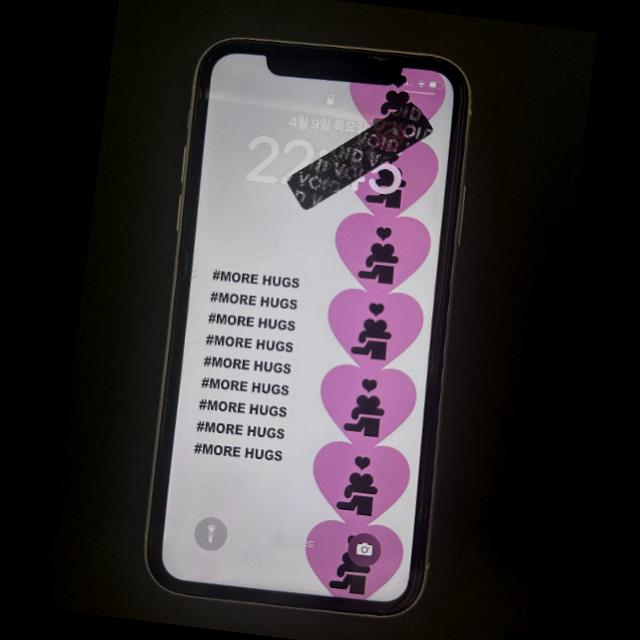phone: (146, 39, 470, 615)
sticker: (285, 101, 432, 210)
